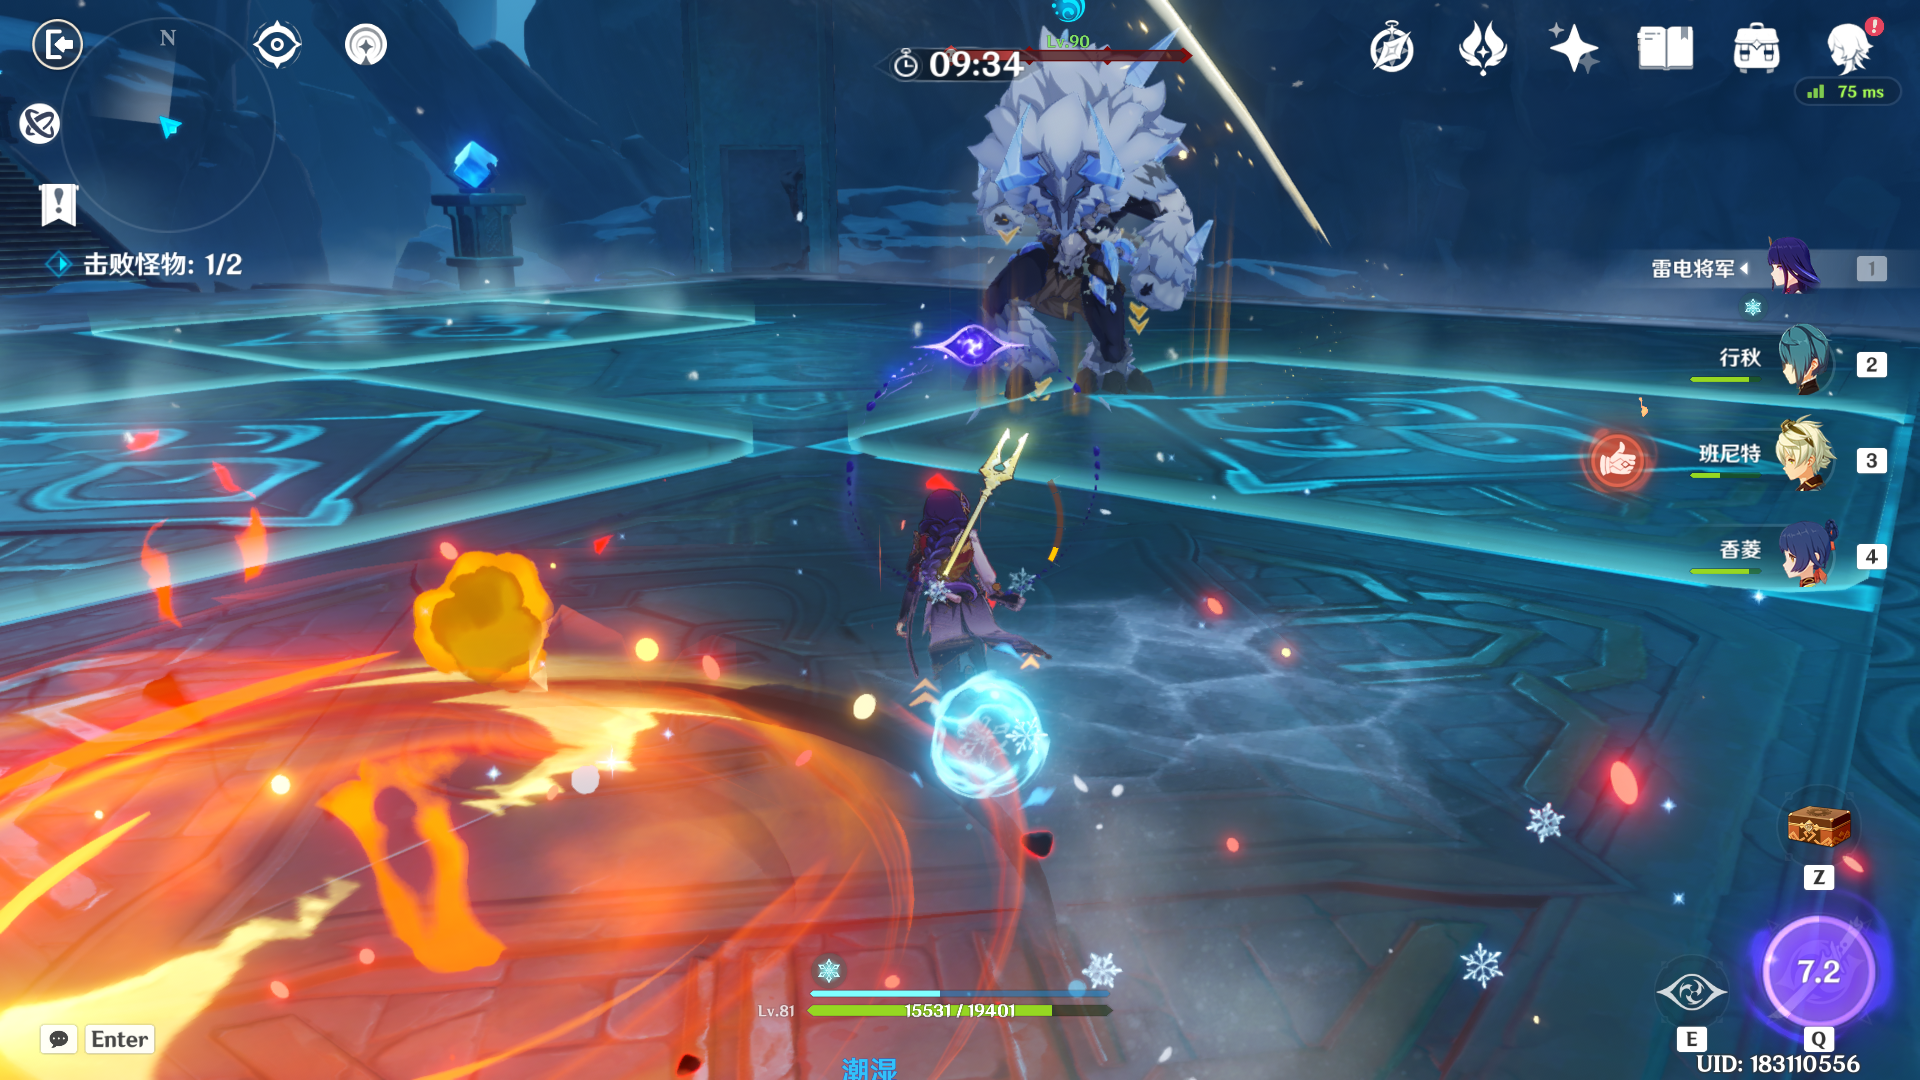bosshili: (873, 17, 1287, 448)
character: (818, 440, 1118, 771)
